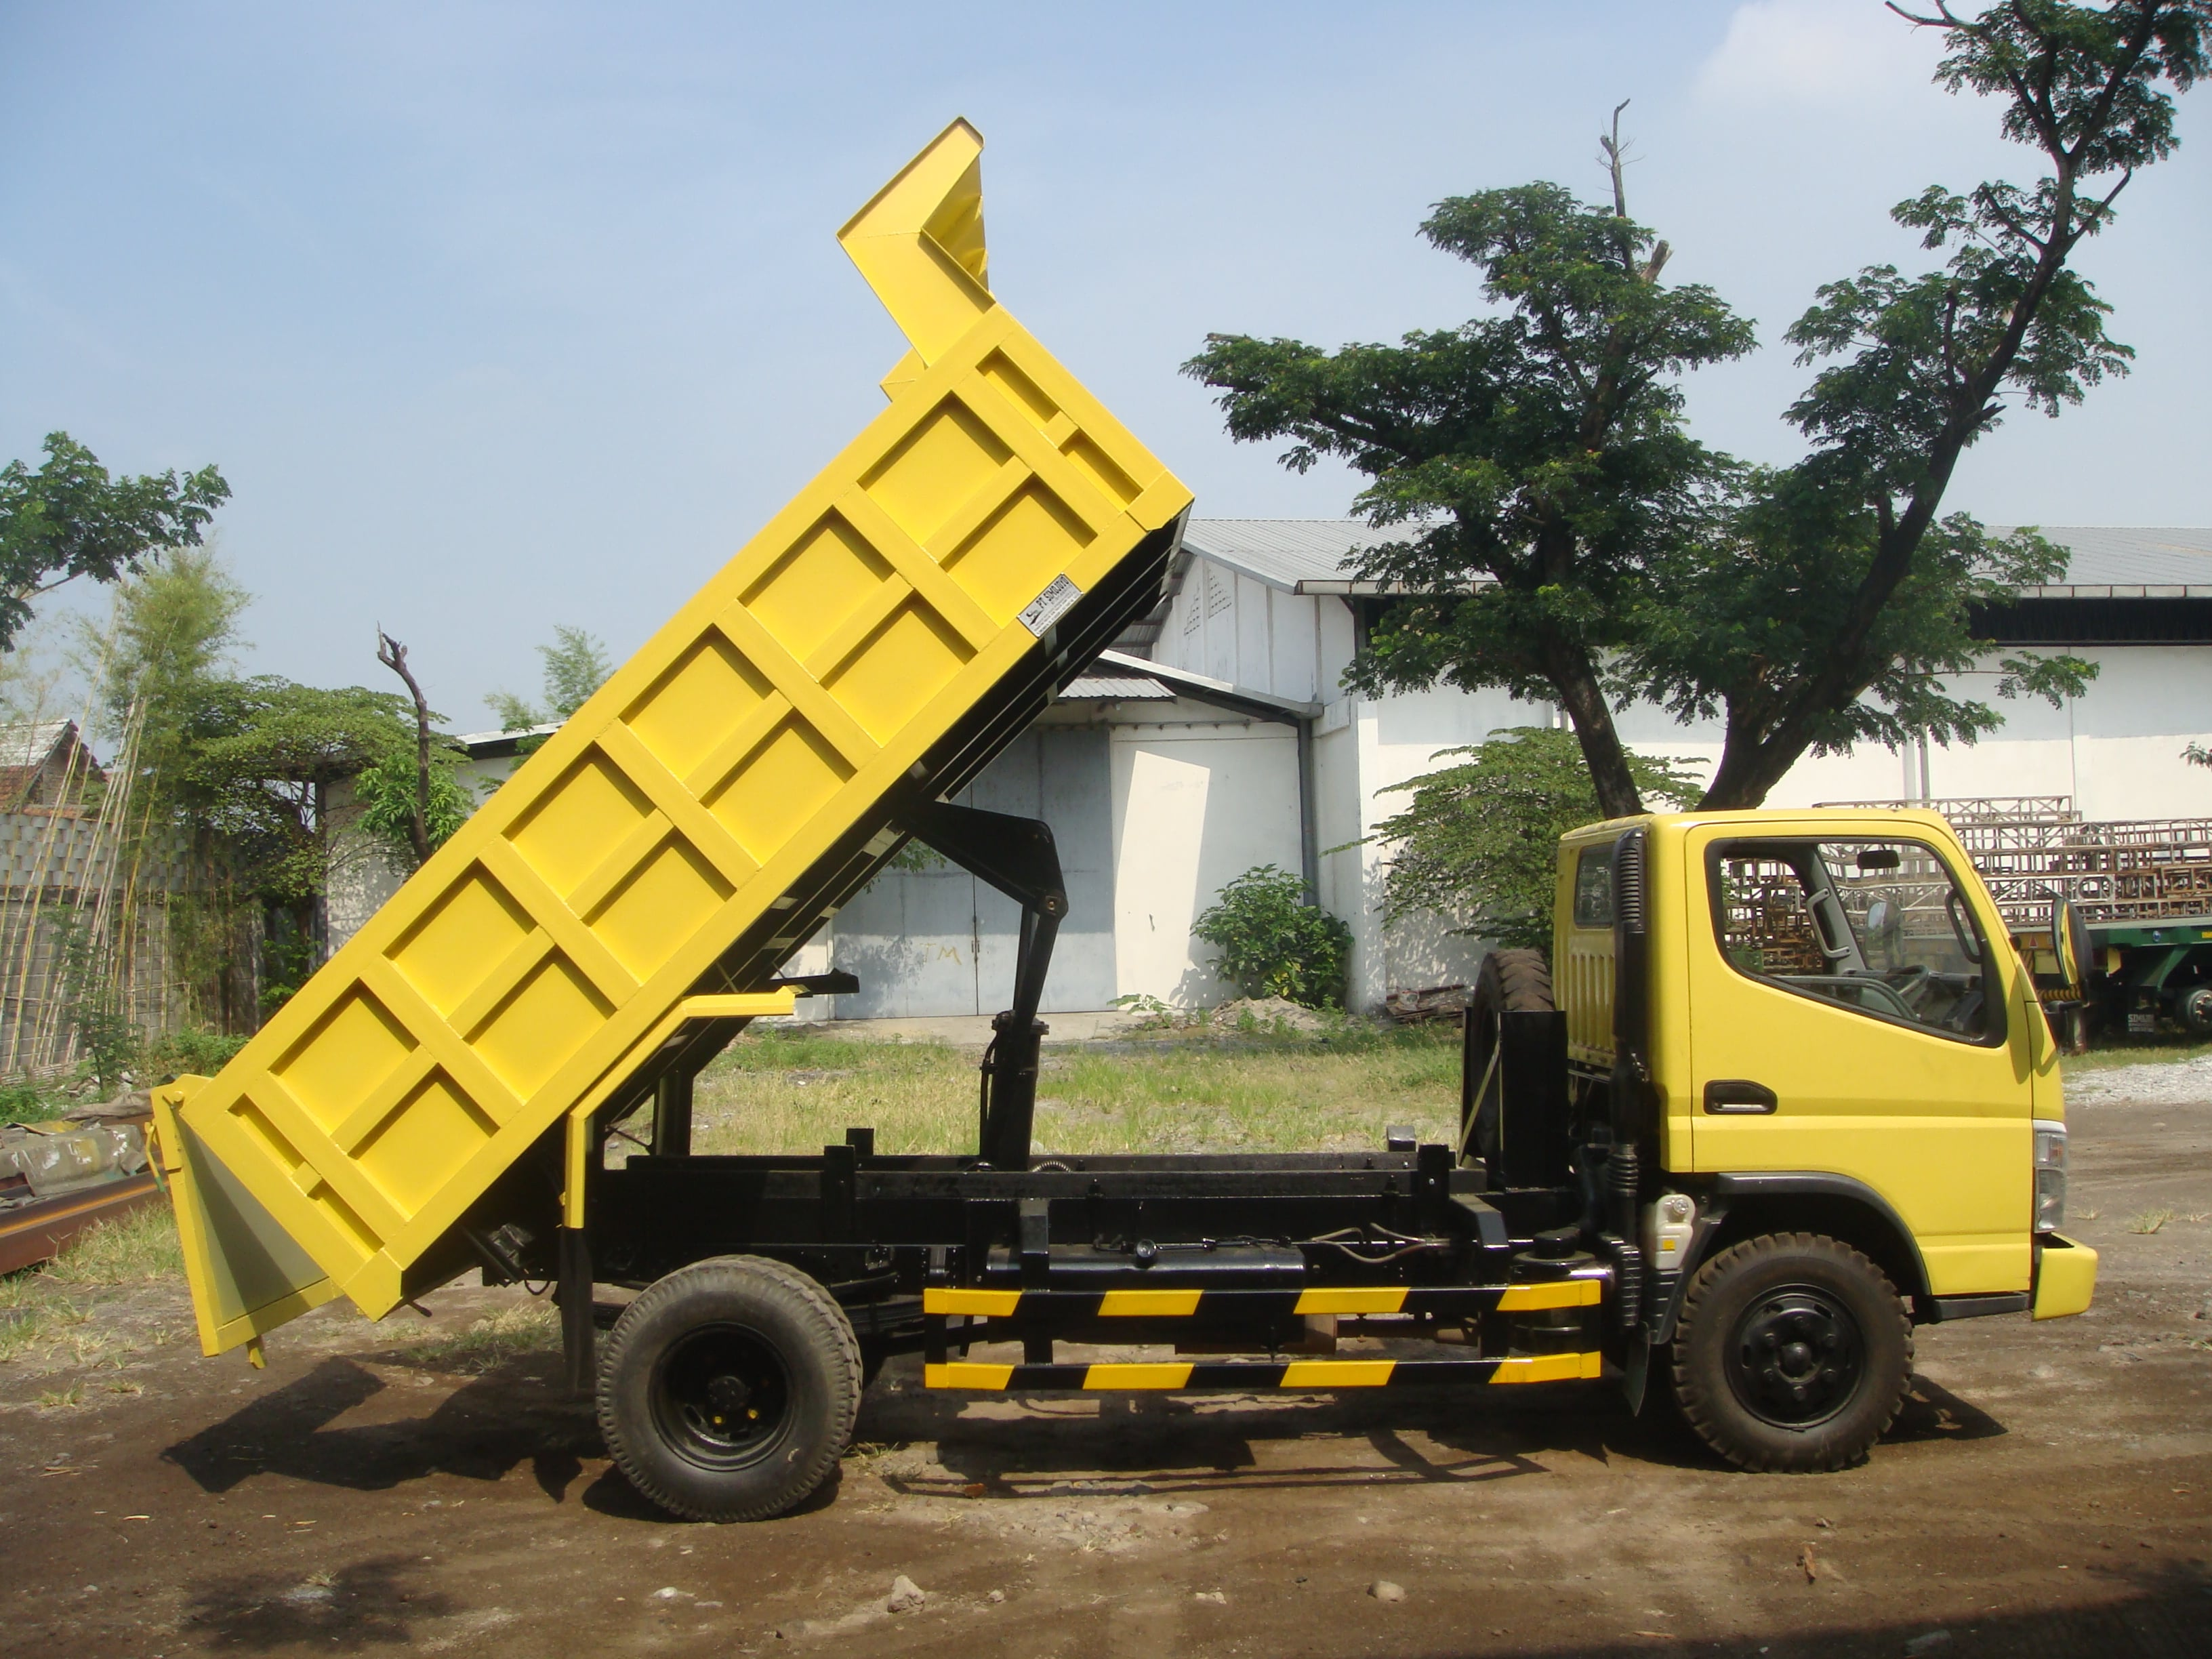truck: (146, 80, 2095, 1530)
